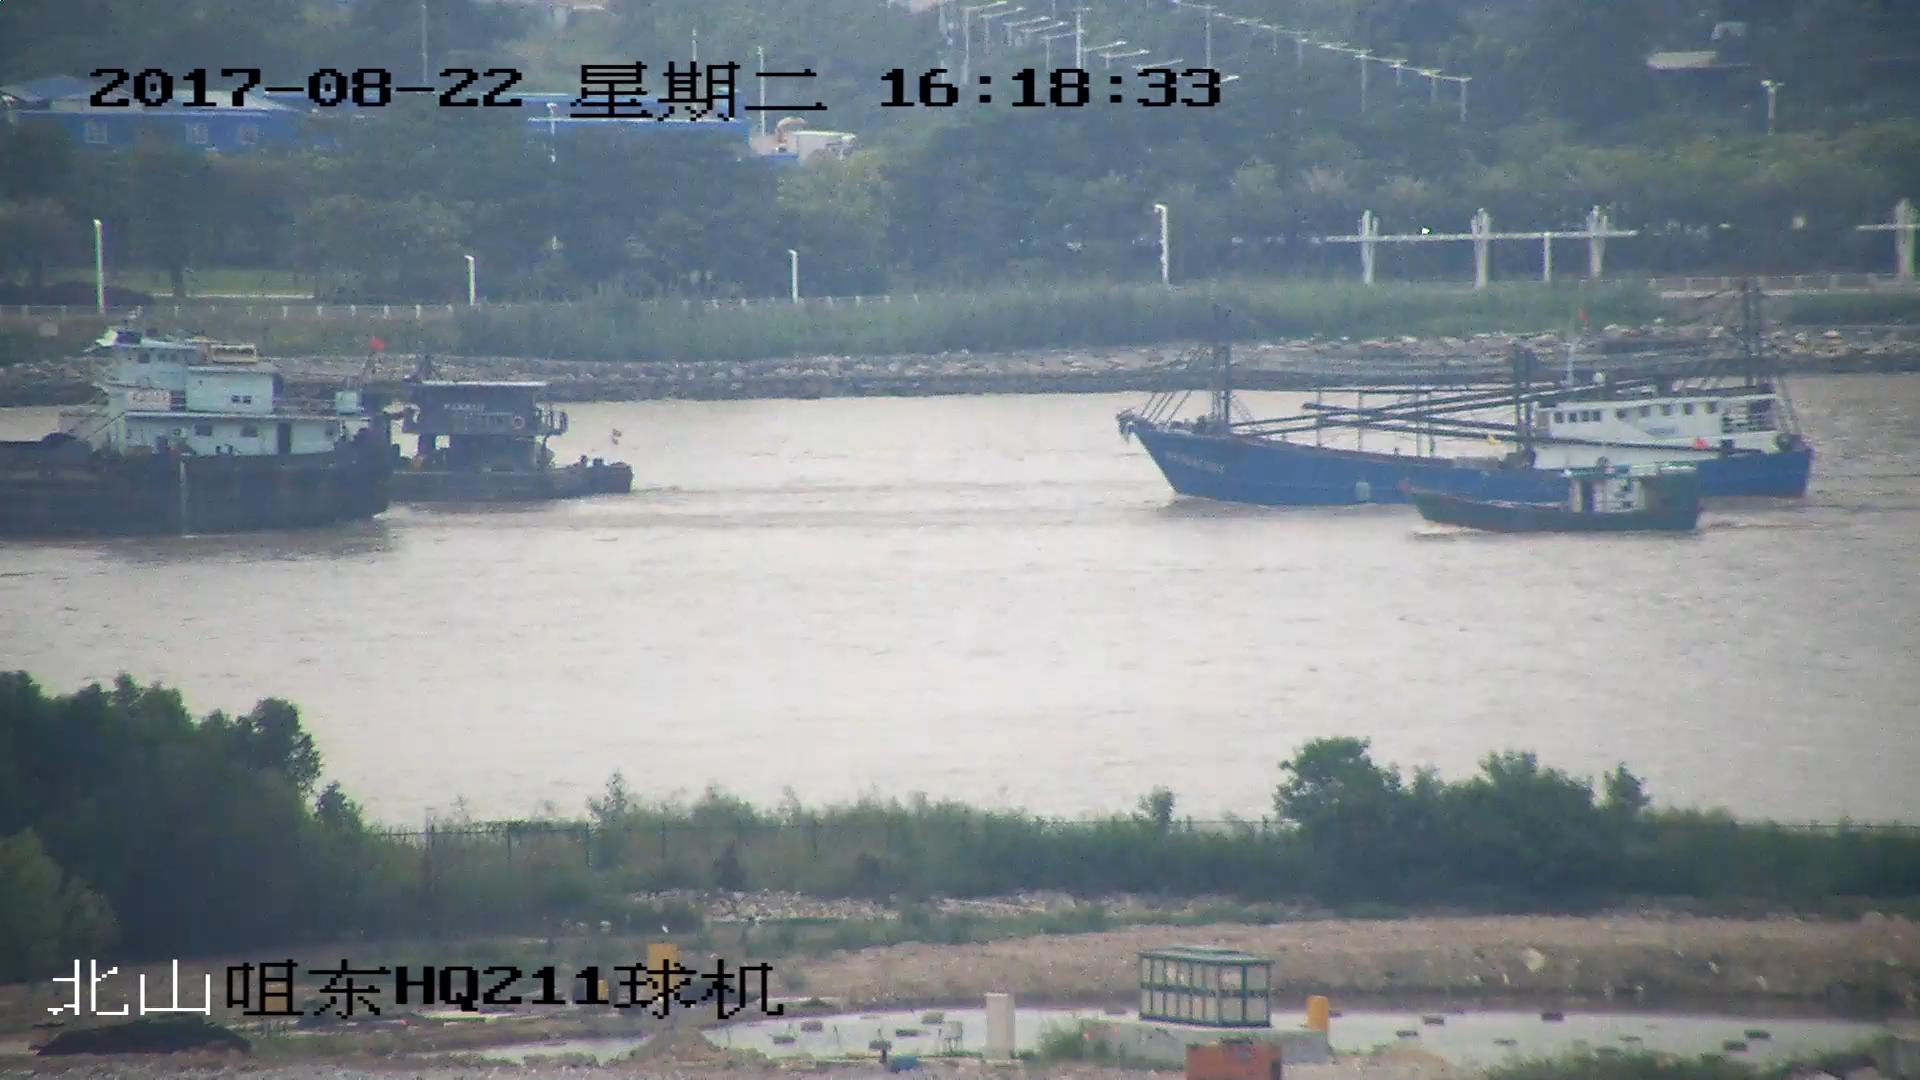bulk cargo carrier: (1, 346, 640, 505), (1, 326, 399, 527)
fishing boat: (1119, 286, 1810, 510), (1402, 442, 1706, 535)
